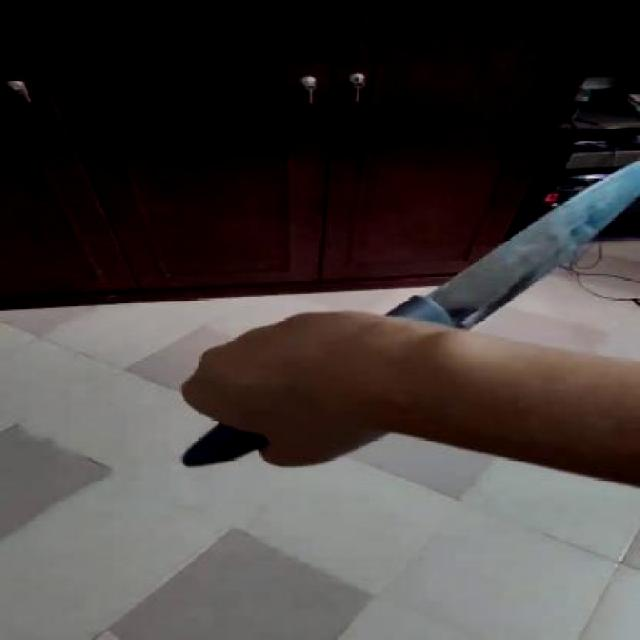knife: (322, 169, 640, 350)
